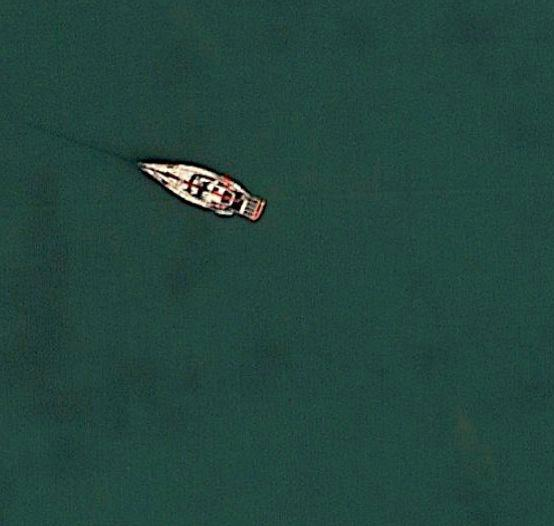Ships: (128, 151, 284, 251)
